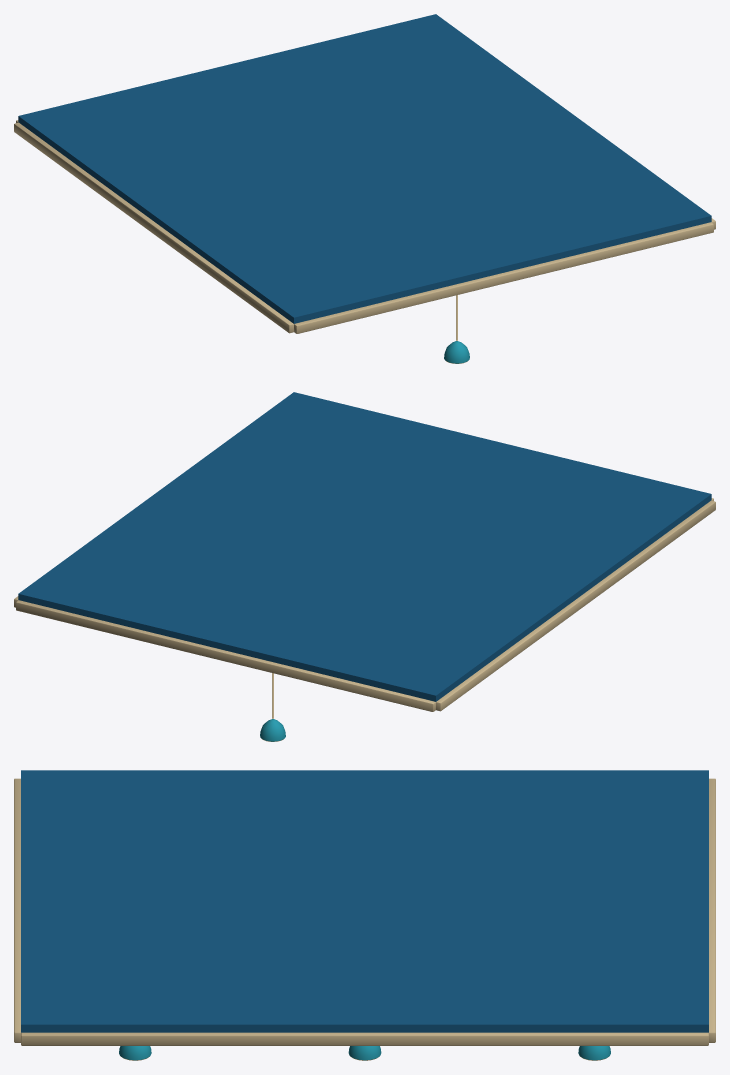
The model's file is CeilingReef.fbx.
3 renders of one model, top to bottom at view 1: azimuth 30°, elevation 25°; view 2: azimuth 150°, elevation 25°; view 3: azimuth 270°, elevation 25°, orthographic. The views are drawn at different scales.
Parts seen in each view (by area): view 1: CeilingReef; view 2: CeilingReef; view 3: CeilingReef.
Part boxes in pixels (box(x1,y1,x2,y2)): CeilingReef: box(14, 14, 715, 363); CeilingReef: box(14, 392, 715, 741); CeilingReef: box(14, 770, 715, 1060).
Size of the model in its own units: 7160 by 2020 by 8160.
